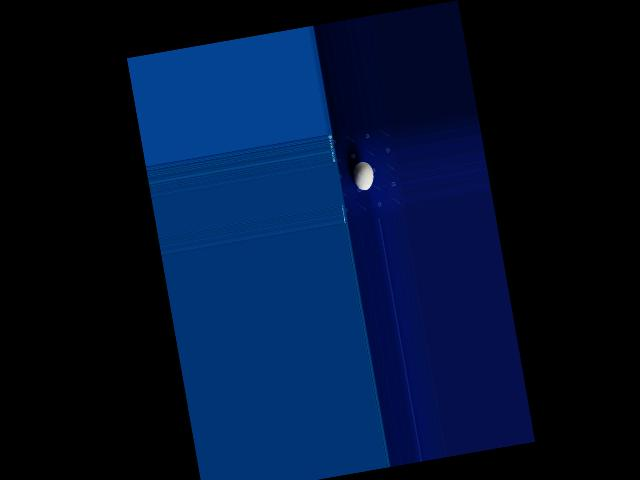egg: (350, 160, 375, 192)
